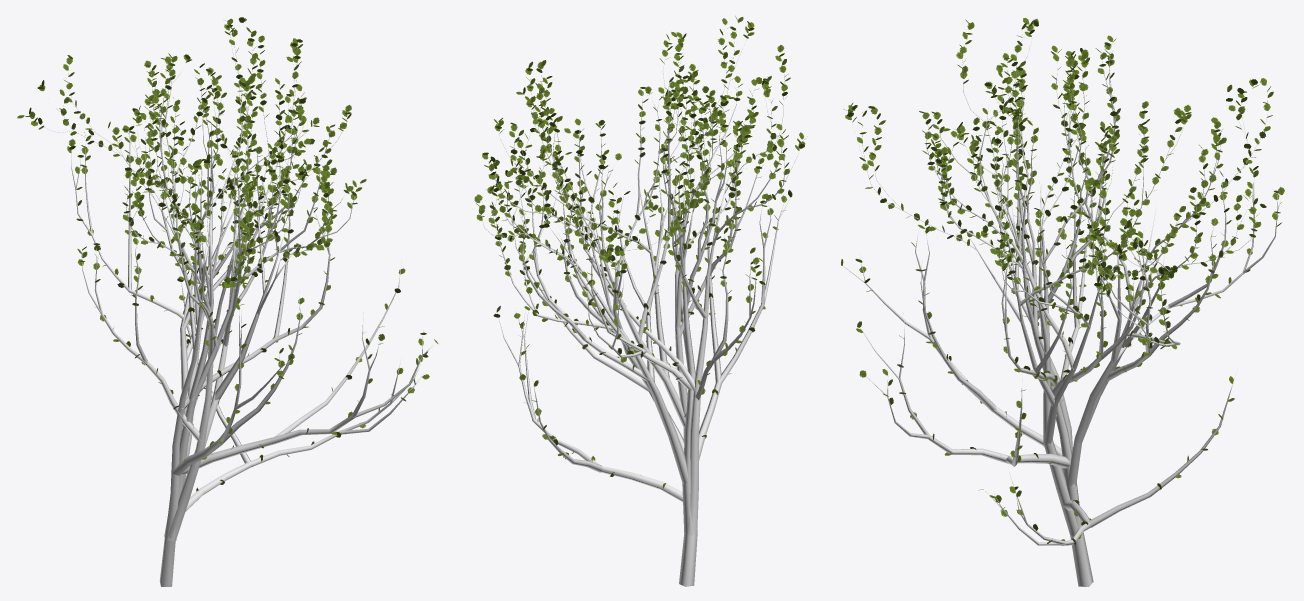
File: testTree.fbx
3 views of the same model, side by side, from view 1: azimuth 30°, elevation 25°; view 2: azimuth 150°, elevation 25°; view 3: azimuth 270°, elevation 25° (orthographic). The views are drawn at different scales.
Parts seen in each view (by area): view 1: tree, leaves; view 2: tree, leaves; view 3: tree, leaves.
Boxes of the visible parts, x1=… form: tree: x1=32, y1=31, x2=435, y2=586; leaves: x1=17, y1=17, x2=438, y2=491; tree: x1=480, y1=37, x2=799, y2=586; leaves: x1=474, y1=16, x2=805, y2=488; tree: x1=844, y1=33, x2=1281, y2=586; leaves: x1=841, y1=18, x2=1284, y2=545.
Bounding box in the file's own units: 1601 × 2534 × 1868.
